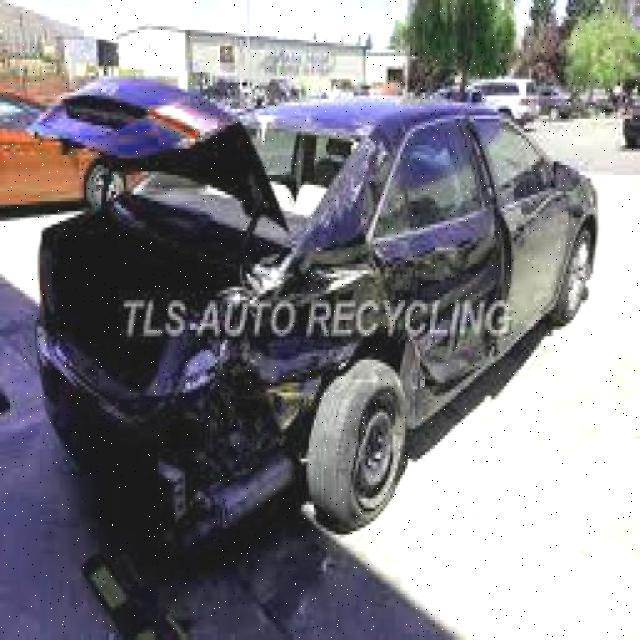car damage: (64, 113, 499, 526)
